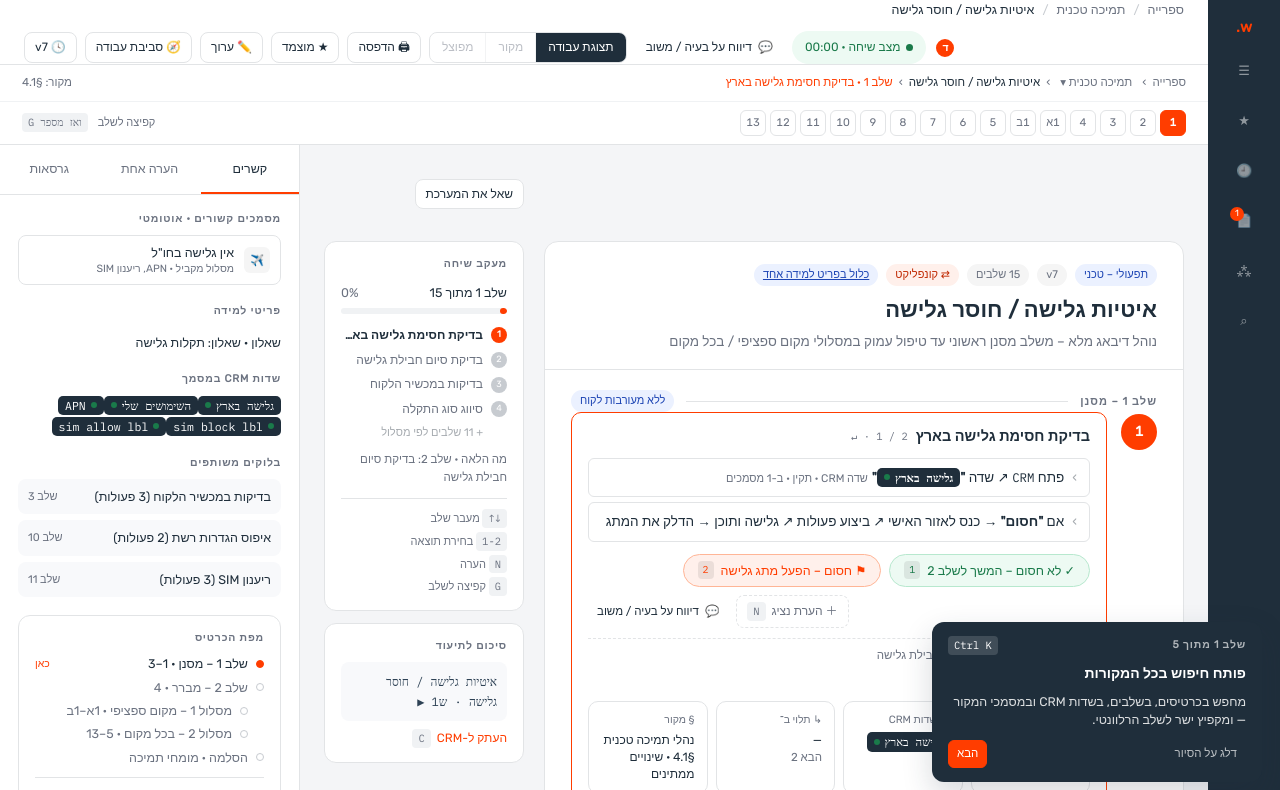
Test: <ArticlePage> call mode › adds a note with N and shows it in the notes tab
Expected: the heading "איטיות גלישה / חוסר גלישה" is shown, [885,296,1157,323]
Type keys "n"
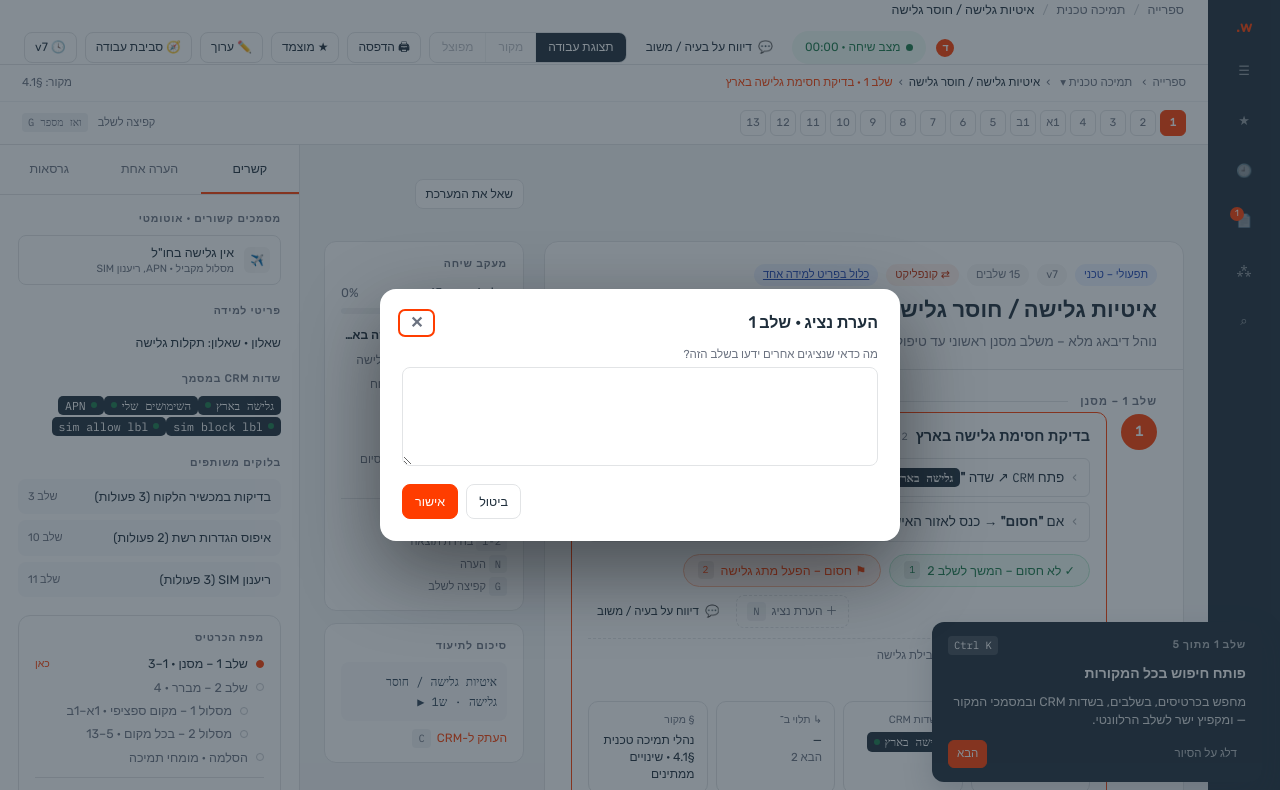
Type "לבדוק גם VPN" into the text box labelled "מה כדאי שנציגים אחרים ידעו בשלב הזה?" at (640,417), box [402,367,878,466]
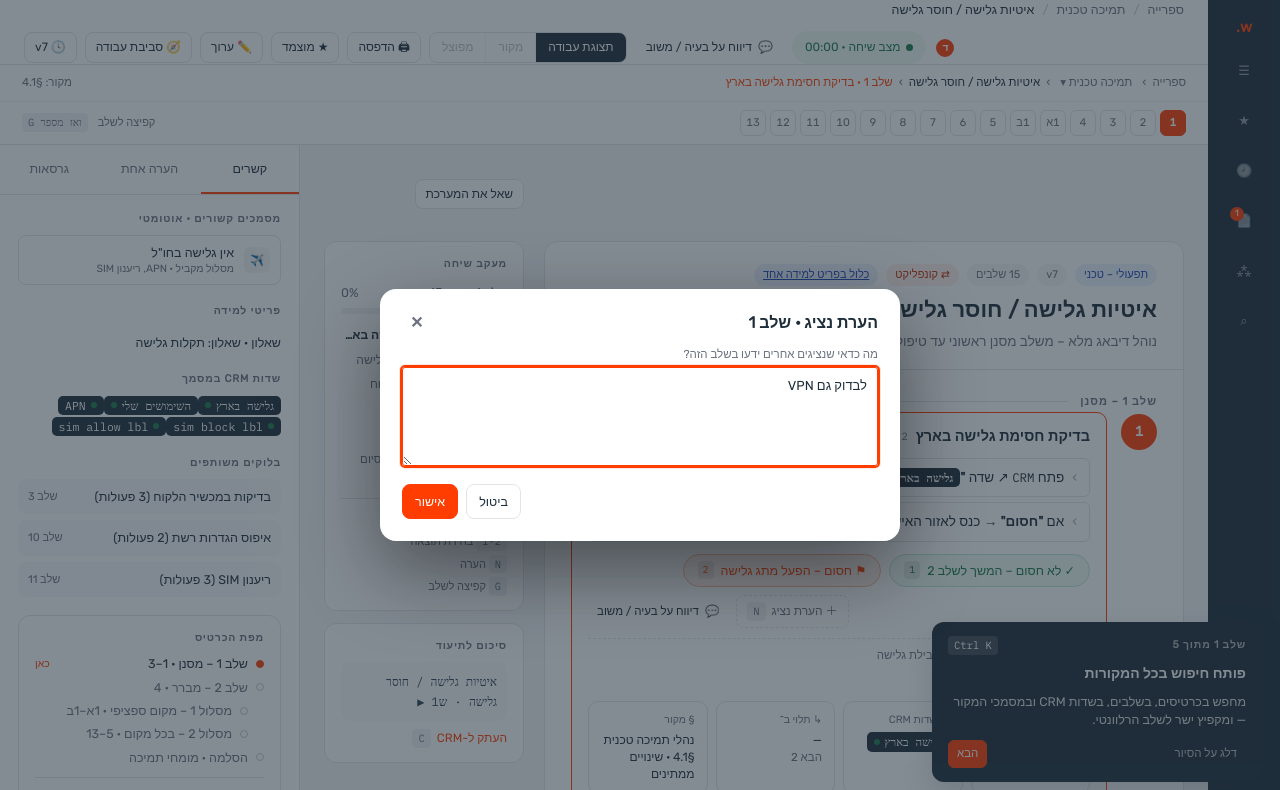
Click the button "אישור" at (430,502), box [402,484,458,519]
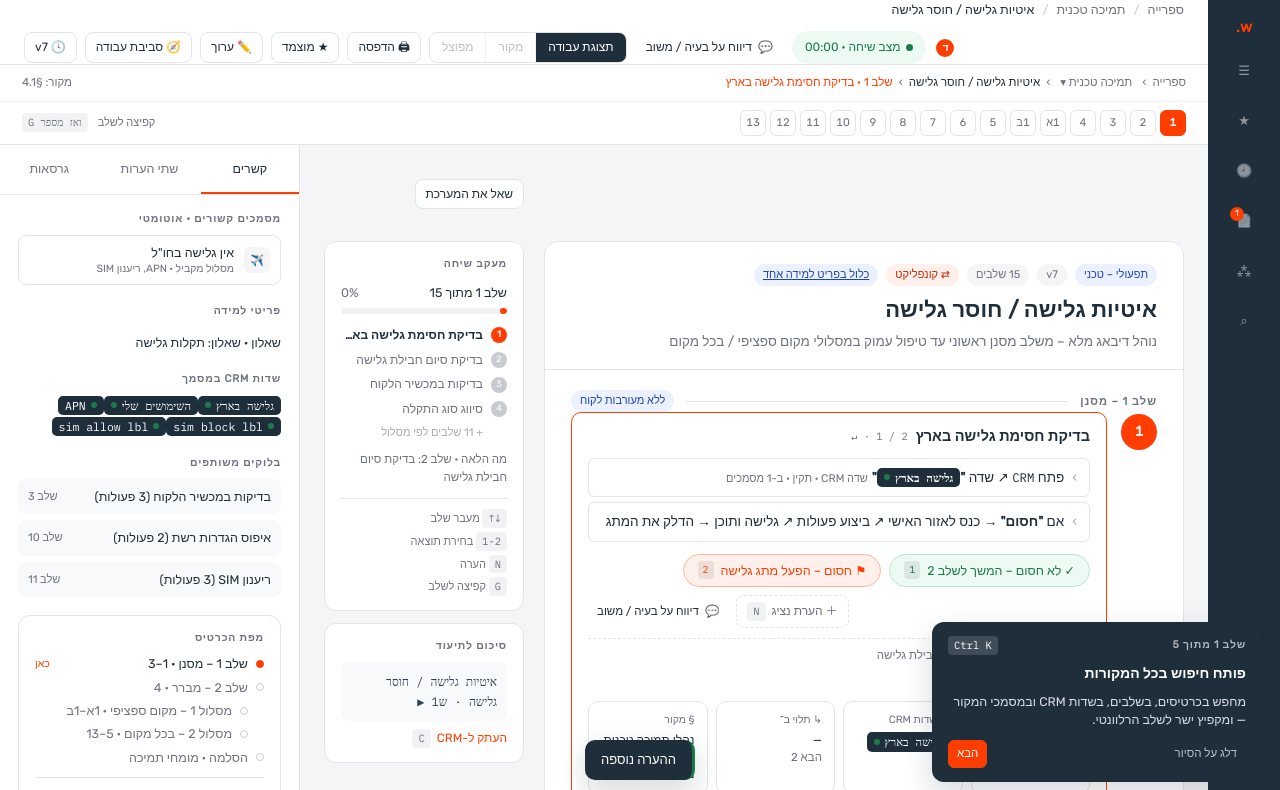
Click the button "שתי הערות" at (150,168), box [121,161,178,176]
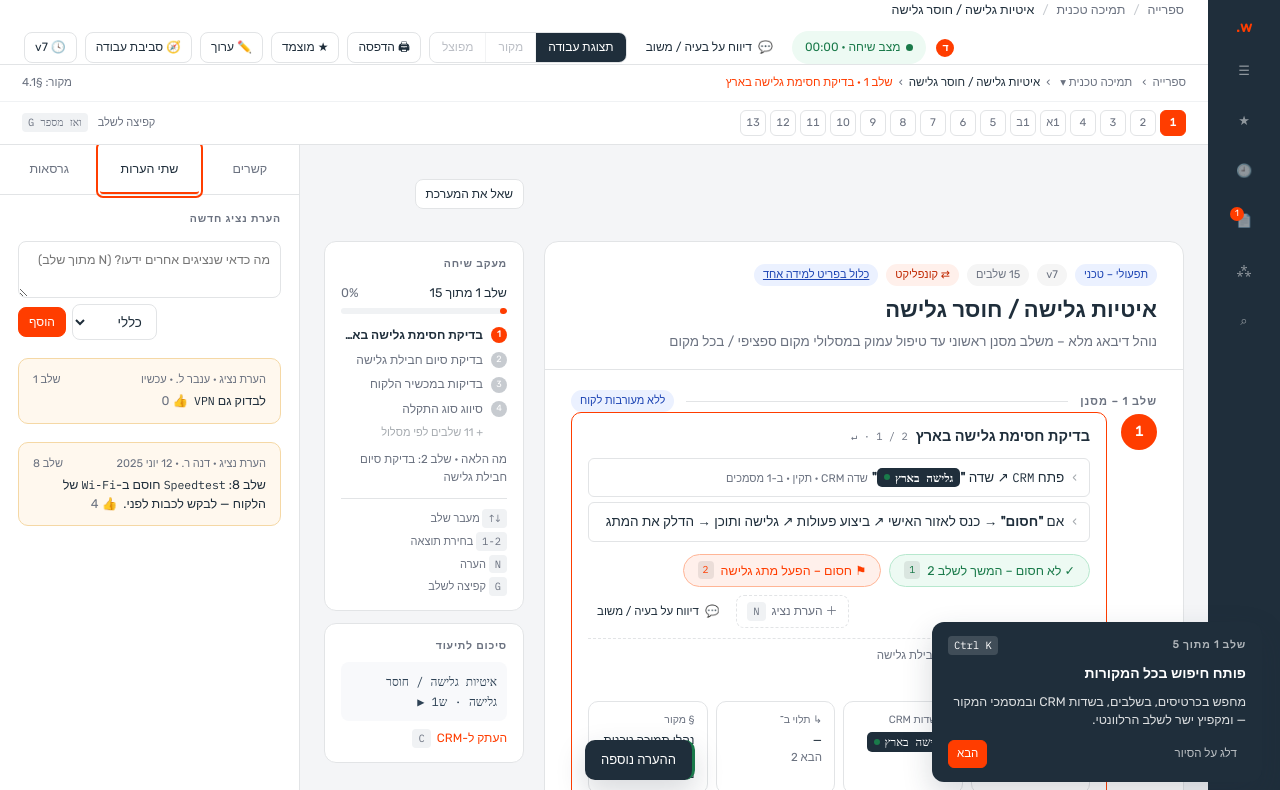
Expected: the text "לבדוק גם VPN" is shown, [194,393,266,408]
